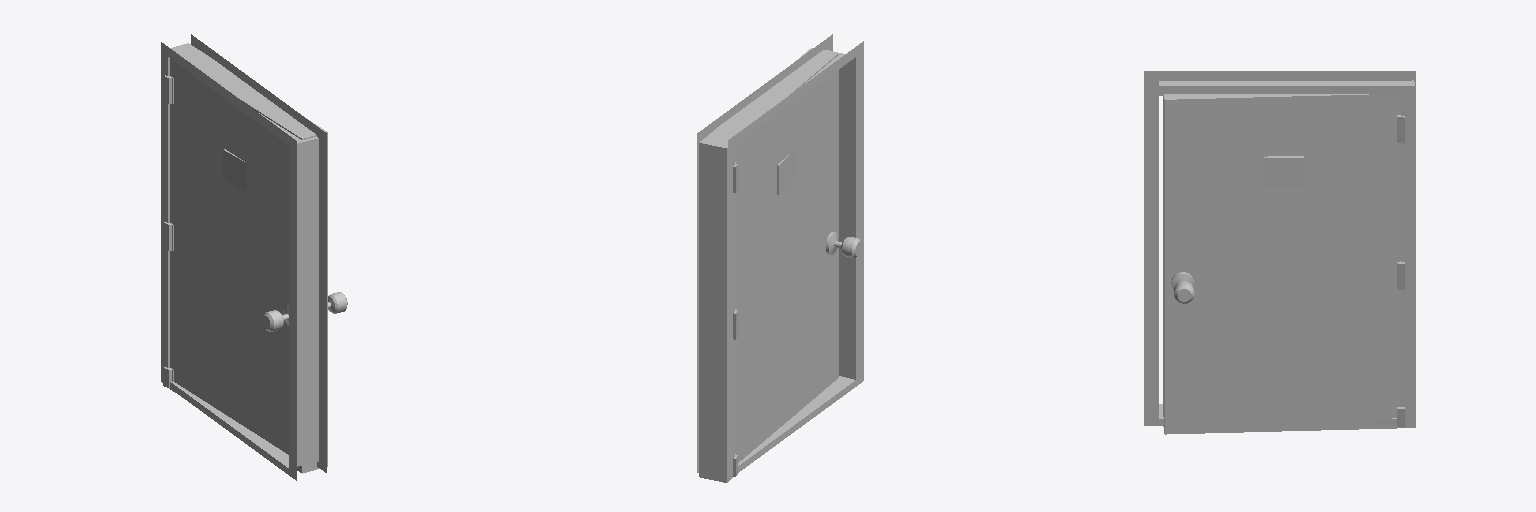
Rendered from Door_5_Open5.obj.
3 renders of one model, left to right at view 1: azimuth 30°, elevation 25°; view 2: azimuth 150°, elevation 25°; view 3: azimuth 270°, elevation 25°, orthographic.
Visible parts, largest first — view 1: Door.004, Frame_Door.004; view 2: Door.004, Frame_Door.004; view 3: Door.004, Frame_Door.004.
Boxes of the visible parts, x1,y1,x2,y2 form: Door.004: [168, 43, 347, 473]; Frame_Door.004: [161, 34, 326, 480]; Door.004: [699, 48, 861, 482]; Frame_Door.004: [697, 34, 863, 479]; Door.004: [1163, 80, 1415, 434]; Frame_Door.004: [1144, 71, 1415, 427].
Size of the model in its own units: 0.2886 by 1.17 by 0.8422.